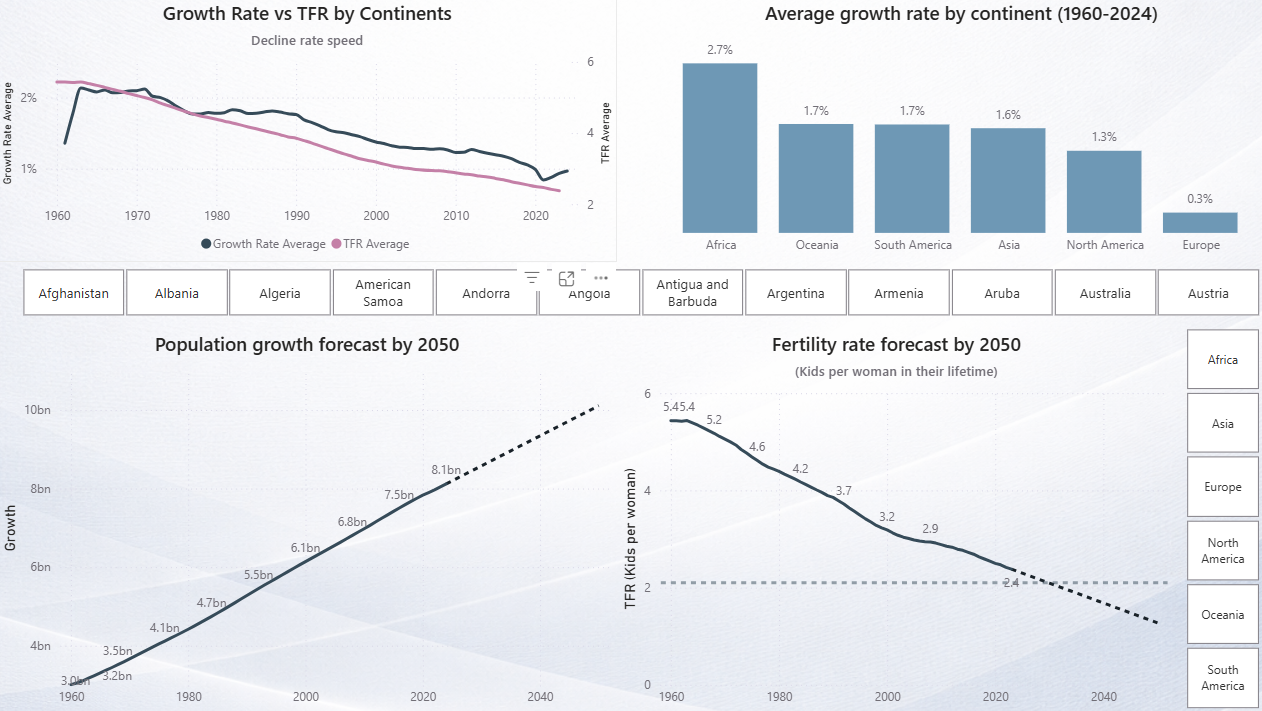

What the dashboard file says about the page in this screenshot:
{"tool":"powerbi","page":{"name":"Population growth forecasting","canvas":[1280,720],"ordinal":3},"visuals":[{"type":"slicer","fields":{"Values":["world_population dim_countries.continent"]},"box":[1158.1,329.6,121.9,390.6],"z":0},{"type":"lineChart","title":"Fertility rate forecast by 2050","fields":{"Category":["world_population dim_year.year_record"],"Y":["Avg(world_population fact_fertility_rate.tfr)"]},"box":[617,329.6,556,390.6],"z":1000},{"type":"slicer","fields":{"Values":["world_population dim_countries.country_name"]},"box":[0,269.9,1280,59.7],"z":2000},{"type":"lineChart","title":"Population growth forecast by 2050","fields":{"Category":["world_population dim_year.year_record"],"Y":["Sum(world_population fact_population.population_count)"]},"box":[0,329.6,617,390.6],"z":3000},{"type":"clusteredColumnChart","title":"Average growth rate by continent","fields":{"Y":["_Measures_.Continent Avg Growth Rate"],"Category":["world_population dim_countries.continent"]},"box":[639.5,0,640.8,270.3],"z":4000},{"type":"lineChart","title":"Growth Rate vs TFR by Continents","fields":{"Category":["world_population dim_year.year_record"],"Y2":["Avg(world_population fact_fertility_rate.tfr)"],"Y":["_Measures_.Countries Growth Rate Avg"]},"box":[0,0,617.5,270],"z":5000}]}

Visuals, with their boxes in screenshot pixels (x1, y1, x2, y2), scaled from the page's 1280x720 canvas onto the 1262x711 screenshot:
slicer - world_population dim_countries.continent: box(1142, 325, 1261, 710)
"Fertility rate forecast by 2050" lineChart: box(608, 325, 1157, 710)
slicer - world_population dim_countries.country_name: box(0, 267, 1261, 325)
"Population growth forecast by 2050" lineChart: box(0, 325, 608, 710)
"Average growth rate by continent" clusteredColumnChart: box(631, 0, 1261, 267)
"Growth Rate vs TFR by Continents" lineChart: box(0, 0, 609, 267)
